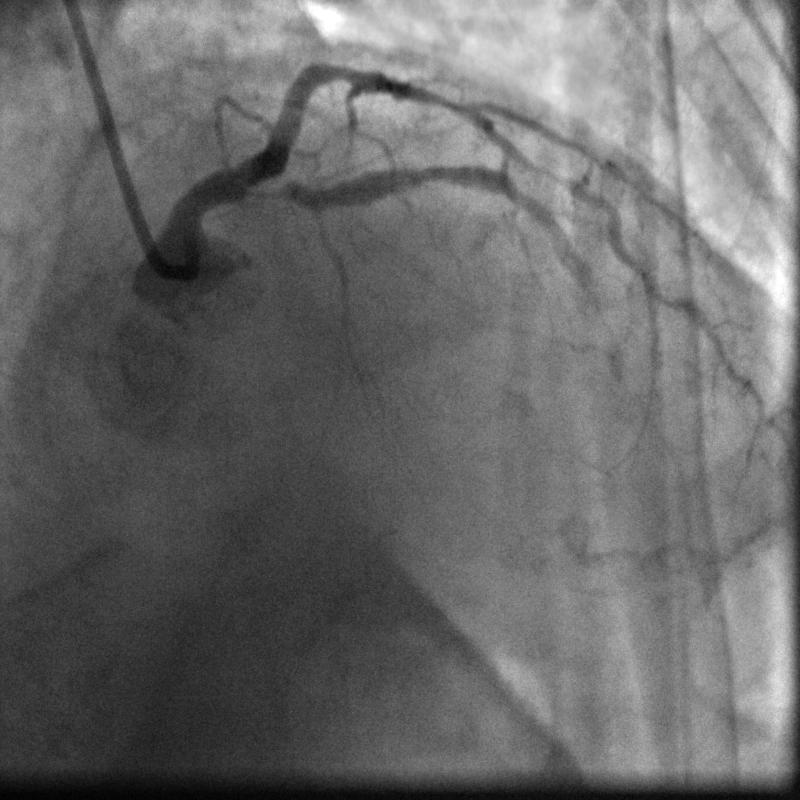Stenosis: (260, 173, 303, 203)
